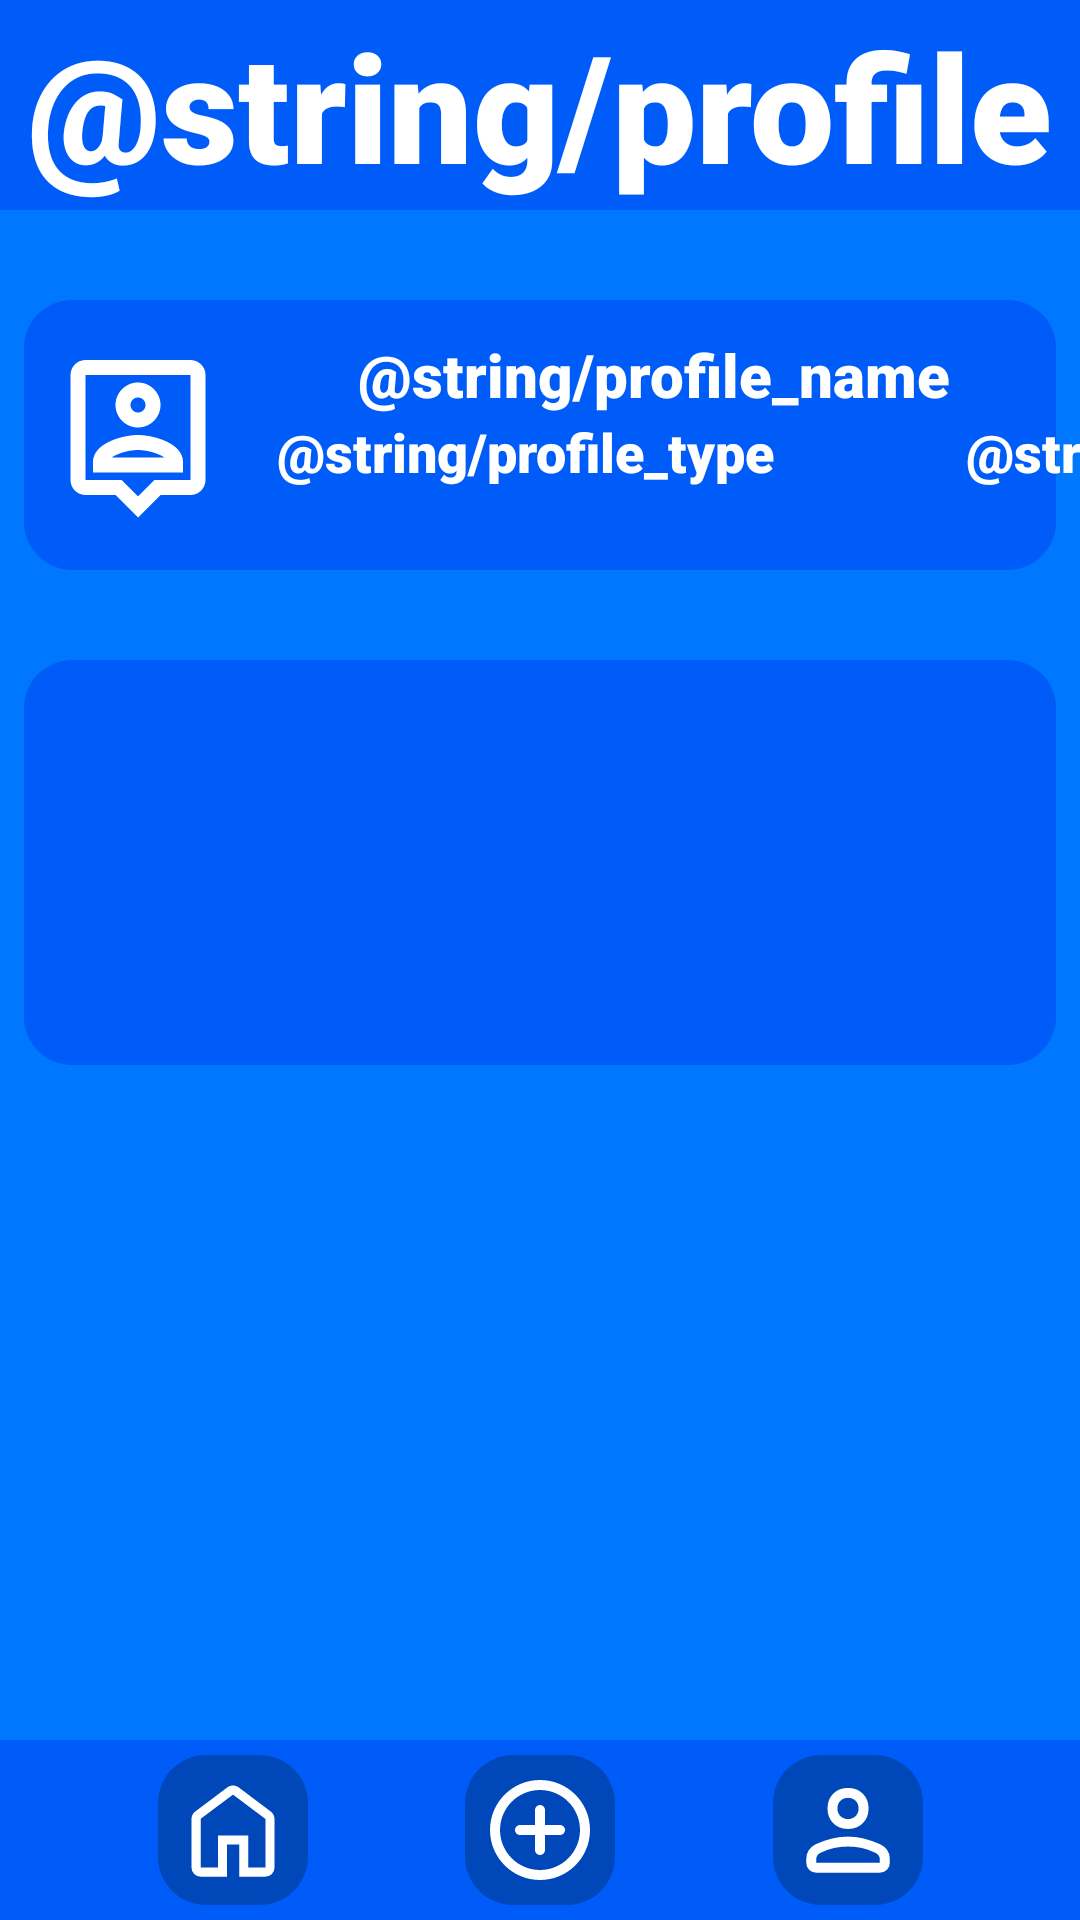

Where icons sit on this 1080×1920 app screen, as bbox(x1, y1, x2, y2):
add: bbox(465, 1755, 615, 1905)
home: bbox(158, 1755, 308, 1905)
person: bbox(773, 1755, 923, 1905)
